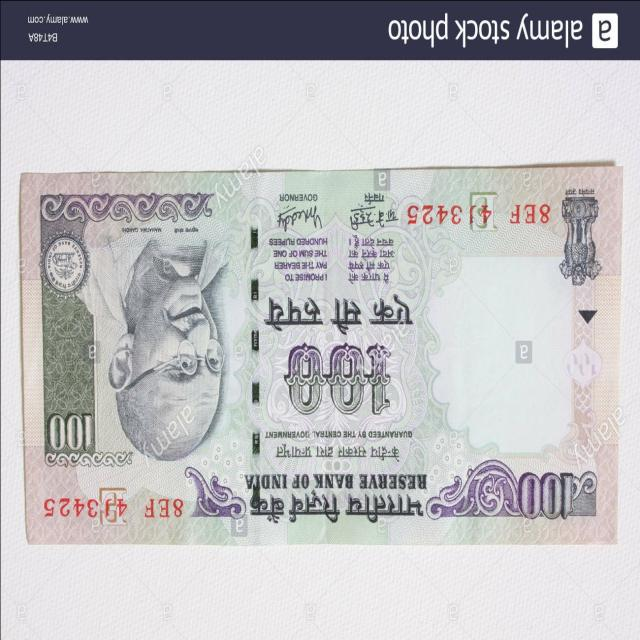100IndianRupees: (25, 166, 618, 536)
